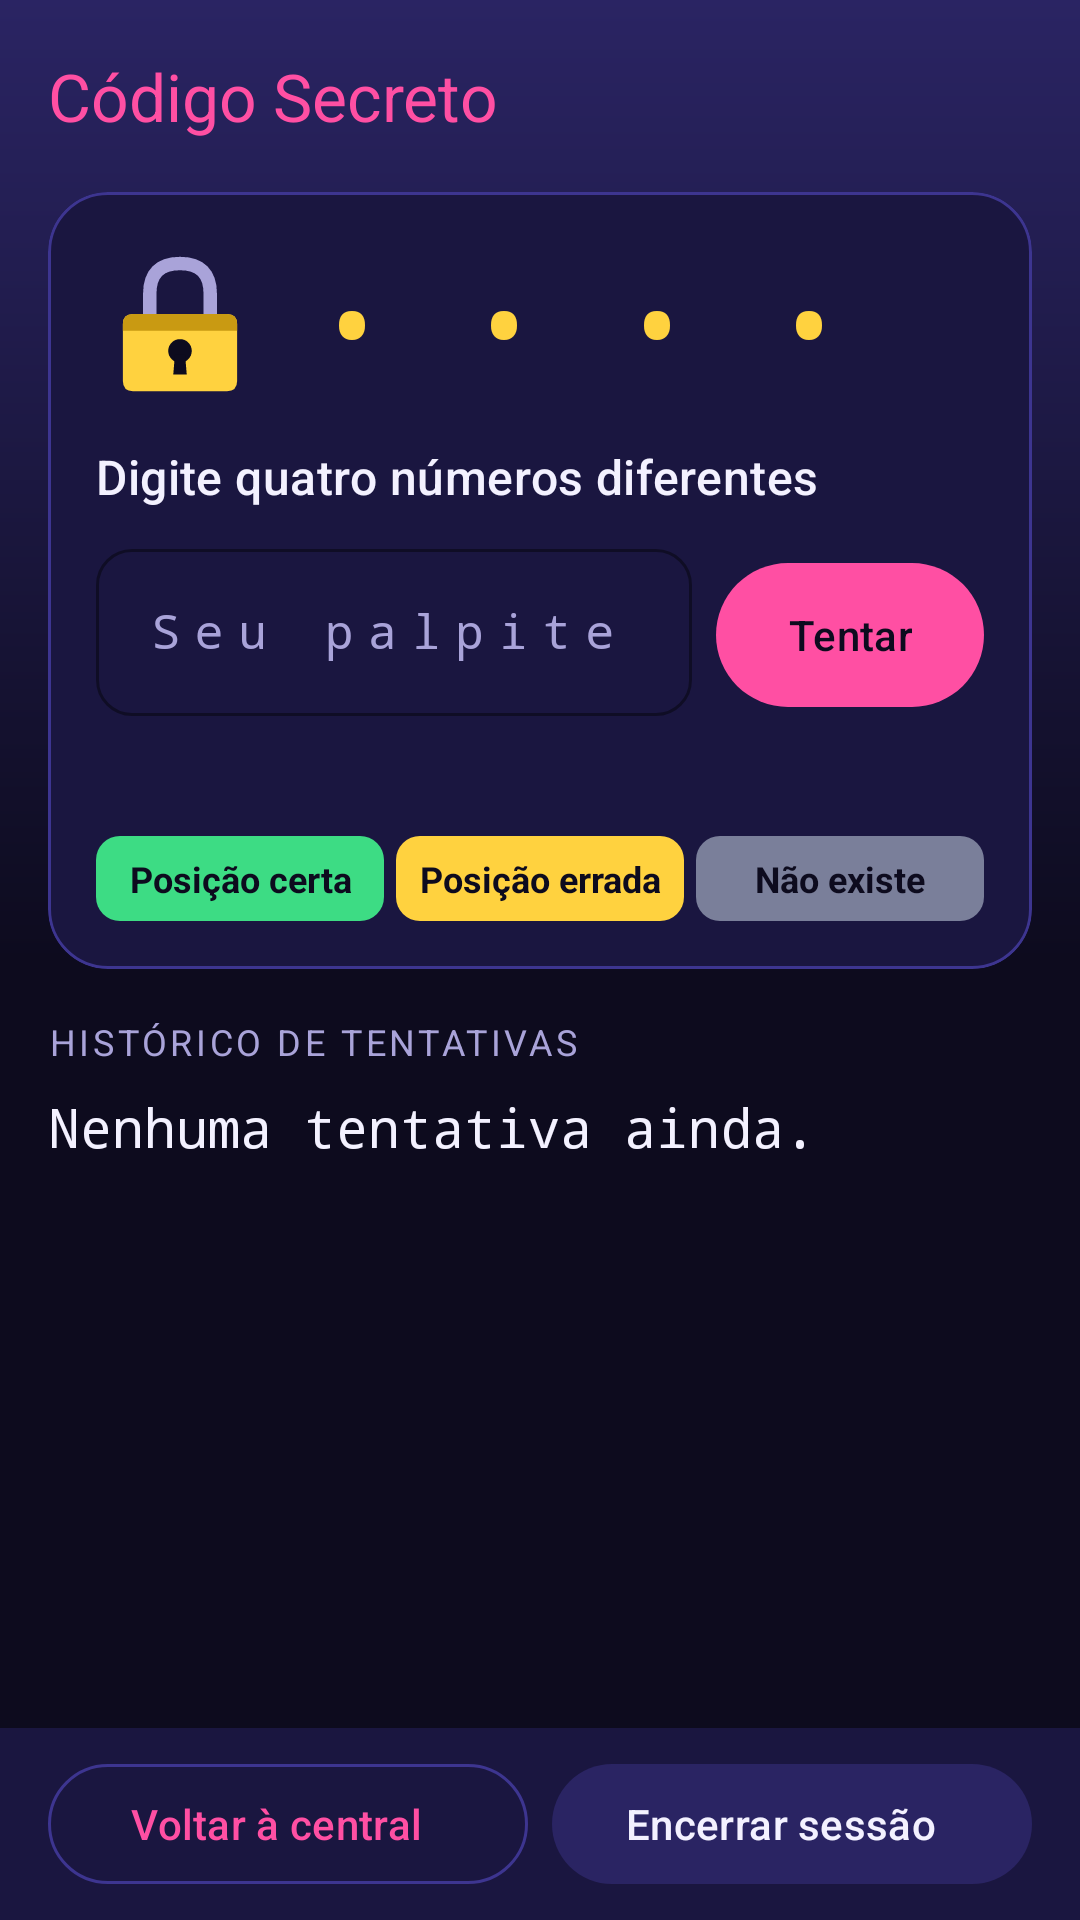

Screen size 1080×1920. Icon name, then its center in pixels as (x=x, y=y):
Cadeado do cofre: (x=180, y=324)
